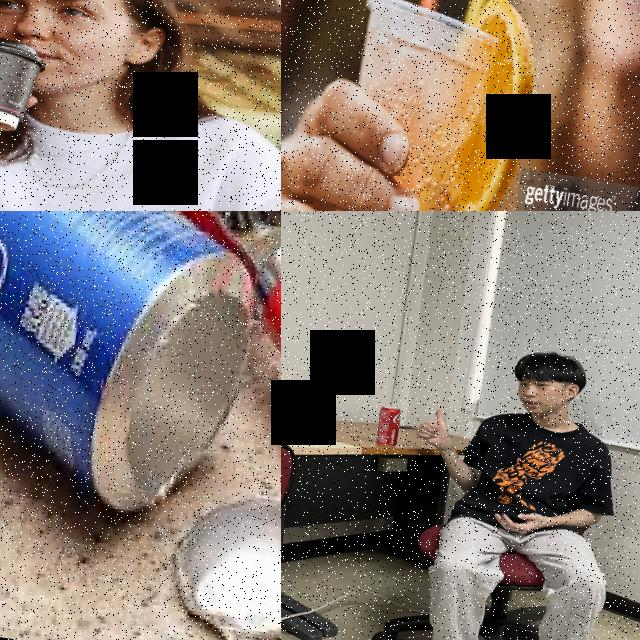can: (374, 405, 403, 448)
cup: (302, 0, 537, 211), (0, 28, 51, 135)
